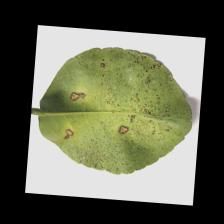canker: (52, 50, 161, 140)
